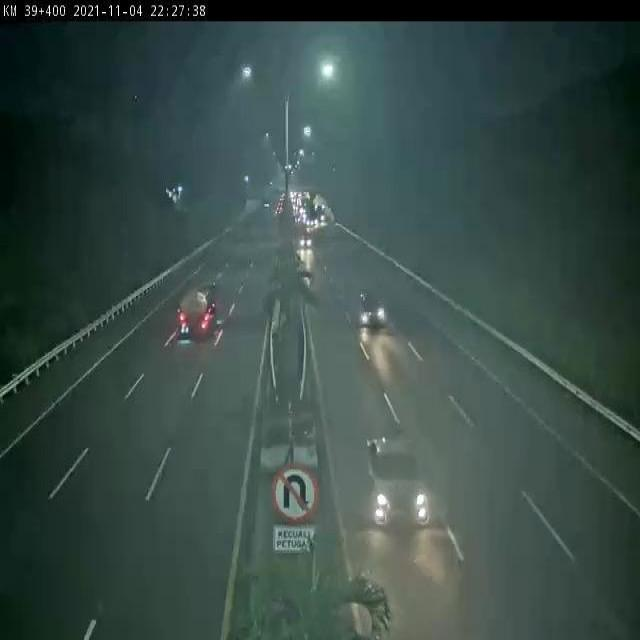car: (365, 433, 429, 531), (359, 288, 386, 331)
mid truck: (180, 285, 220, 339)
